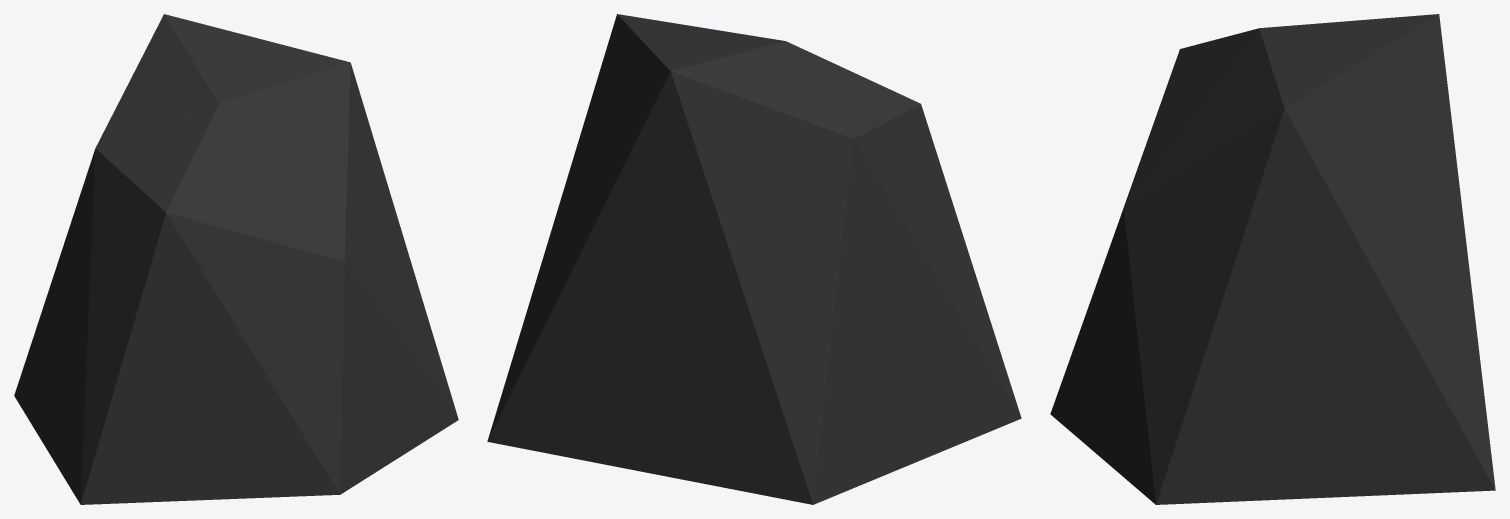
Rendered from RockSmall_5.fbx.
3 views of the same model, side by side, from view 1: azimuth 30°, elevation 25°; view 2: azimuth 150°, elevation 25°; view 3: azimuth 270°, elevation 25° (orthographic). The views are drawn at different scales.
Parts seen in each view (by area): view 1: RockSmall5; view 2: RockSmall5; view 3: RockSmall5.
Part boxes in pixels (x1=…): RockSmall5: x1=14, y1=14, x2=458, y2=504; RockSmall5: x1=487, y1=14, x2=1021, y2=504; RockSmall5: x1=1050, y1=14, x2=1495, y2=504.
Size of the model in its own units: 236 by 216 by 218.
